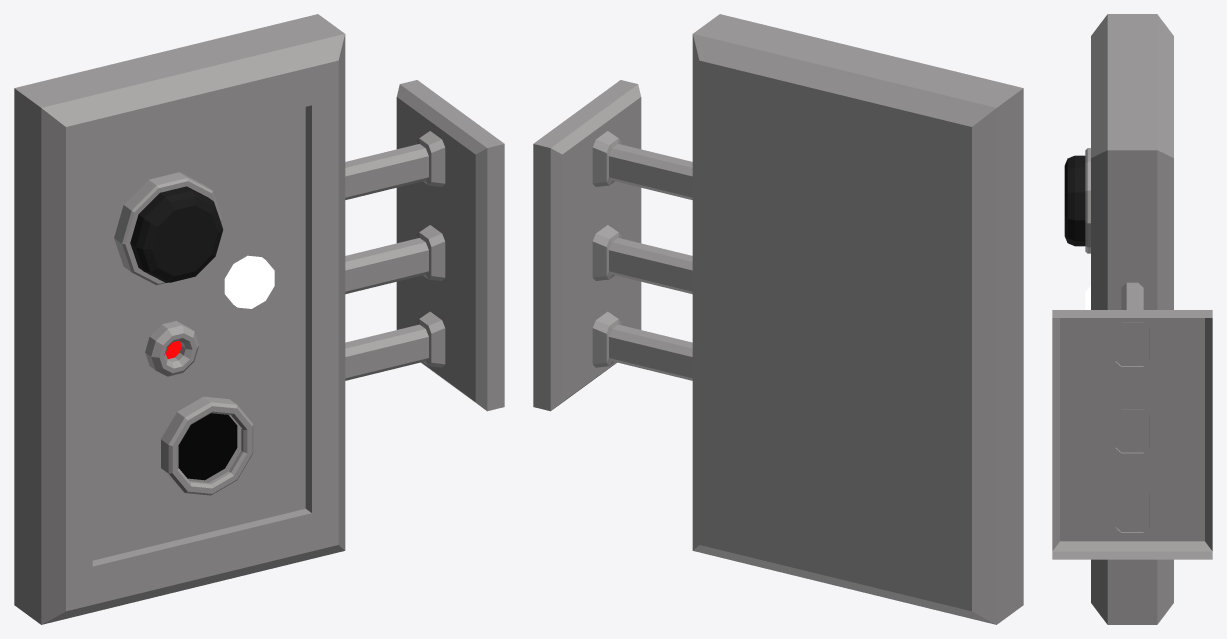
The model's file is DoorLaser_1.fbx.
The picture shows the model from 3 angles, left to right: view 1: azimuth 30°, elevation 25°; view 2: azimuth 150°, elevation 25°; view 3: azimuth 270°, elevation 25°; orthographic projection. The views are drawn at different scales.
Parts seen in each view (by area): view 1: DoorLaser_1; view 2: DoorLaser_1; view 3: DoorLaser_1.
Boxes of the visible parts, x1,y1,x2,y2 form: DoorLaser_1: (14, 14, 504, 624); DoorLaser_1: (533, 14, 1023, 624); DoorLaser_1: (1052, 14, 1212, 624).
Size of the model in its own units: 25.09 by 28.62 by 8.77.
